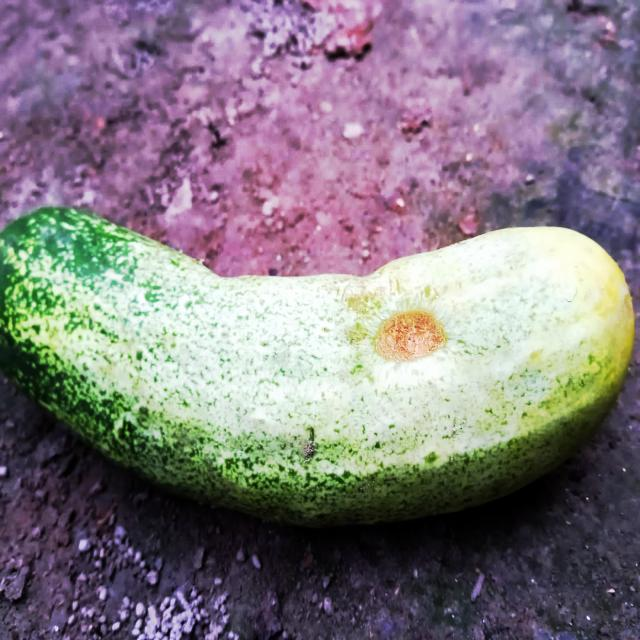Belly-Rot: (370, 303, 450, 368)
